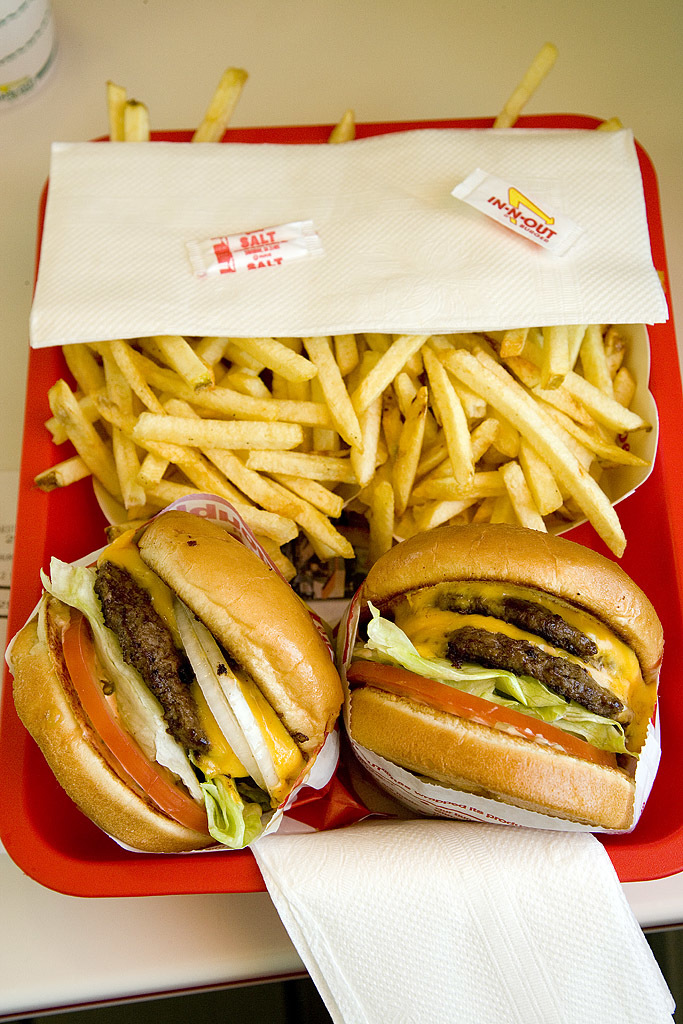French fries: (0, 321, 683, 542), (498, 42, 551, 131), (194, 64, 245, 140), (114, 81, 127, 138), (333, 112, 359, 138), (131, 99, 146, 140), (605, 119, 619, 128)
